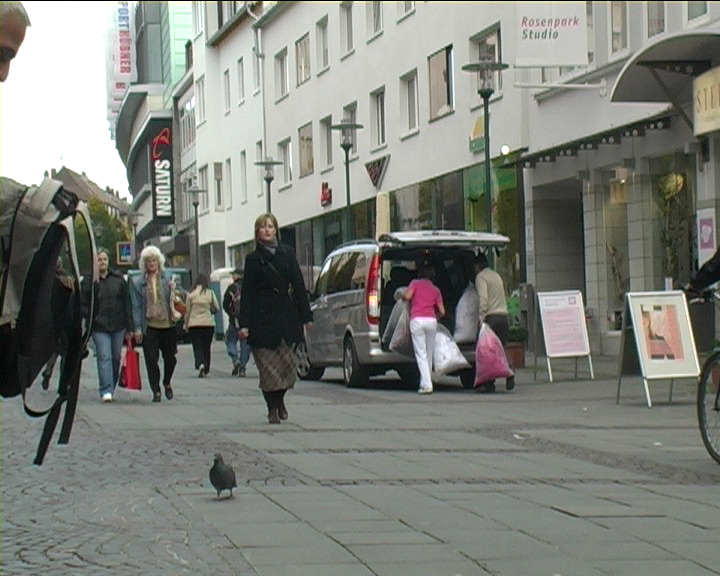undeflect: (249, 216, 298, 289)
